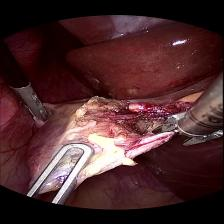Clipper: (156, 106, 224, 148)
Grasper: (29, 141, 94, 205), (14, 81, 50, 123)
